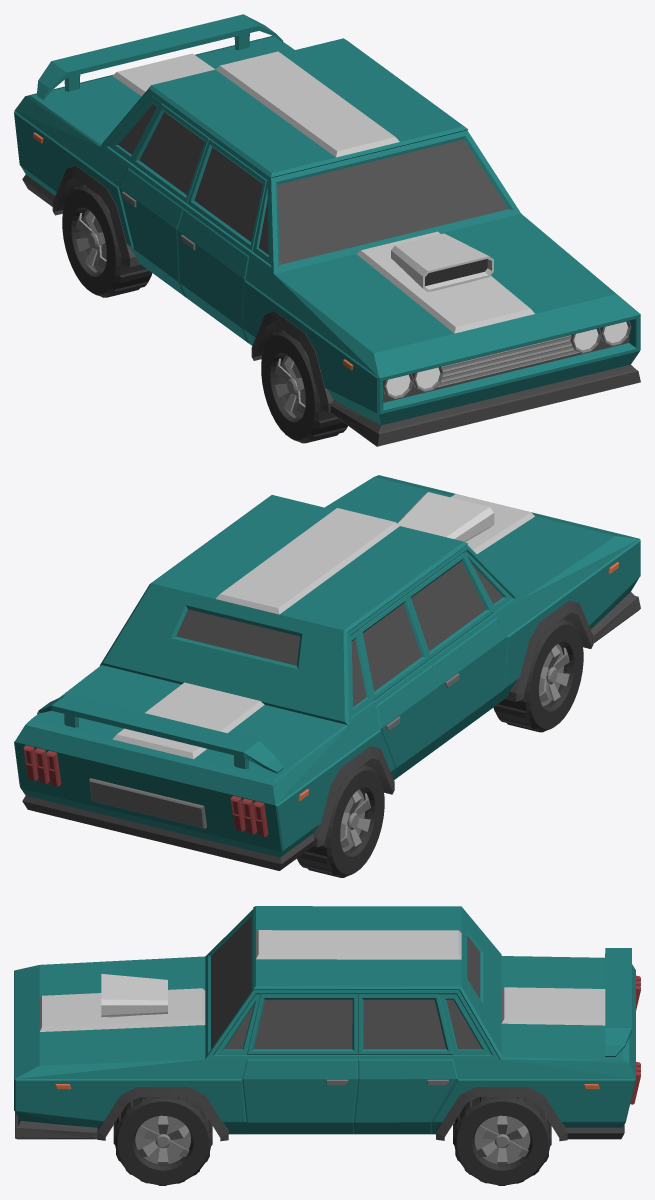
The model's file is racer.glb.
3 views of the same model, one above another, from view 1: azimuth 30°, elevation 25°; view 2: azimuth 150°, elevation 25°; view 3: azimuth 270°, elevation 25° (orthographic). The views are drawn at different scales.
Visible parts, largest first — view 1: Object568; view 2: Object568; view 3: Object568.
Boxes of the visible parts, left/top/right/bottom form: Object568: left=14, top=14, right=640, bottom=446; Object568: left=14, top=475, right=640, bottom=877; Object568: left=14, top=906, right=640, bottom=1185.
Bounding box in the file's own units: 2 × 1.57 × 4.71.
1 material, 1 textured.
